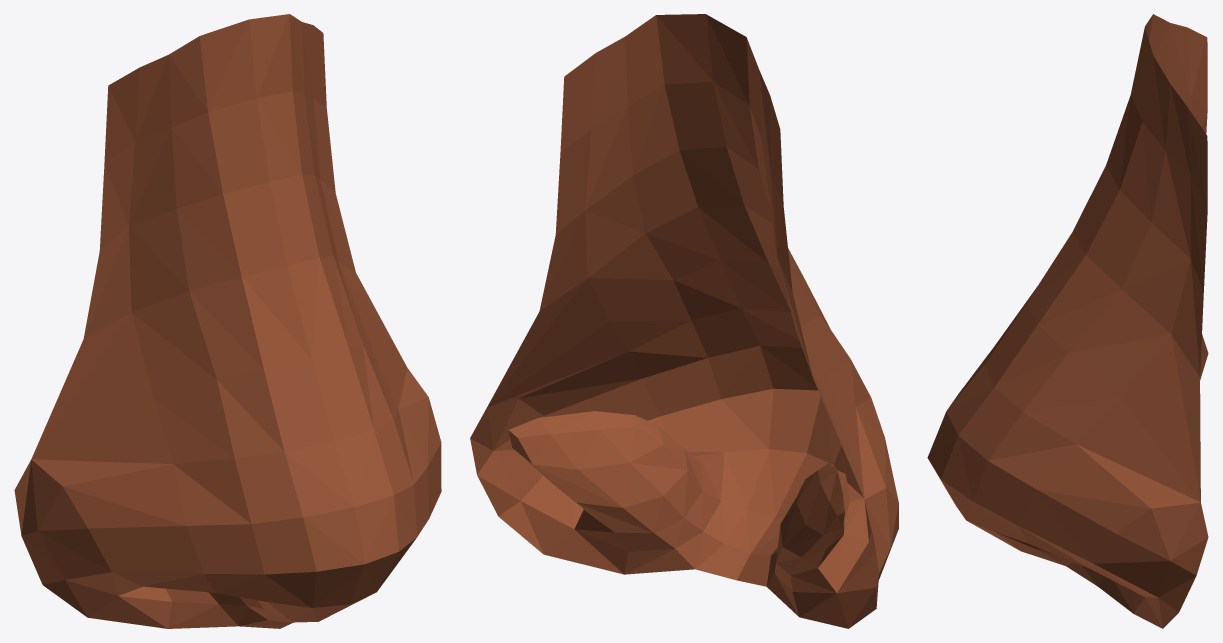
File: nose.obj
3 renders of one model, left to right at view 1: azimuth 30°, elevation 25°; view 2: azimuth 150°, elevation 25°; view 3: azimuth 270°, elevation 25°, orthographic. The views are drawn at different scales.
Bounding box in the file's own units: 4.03 × 5.63 × 2.6.
